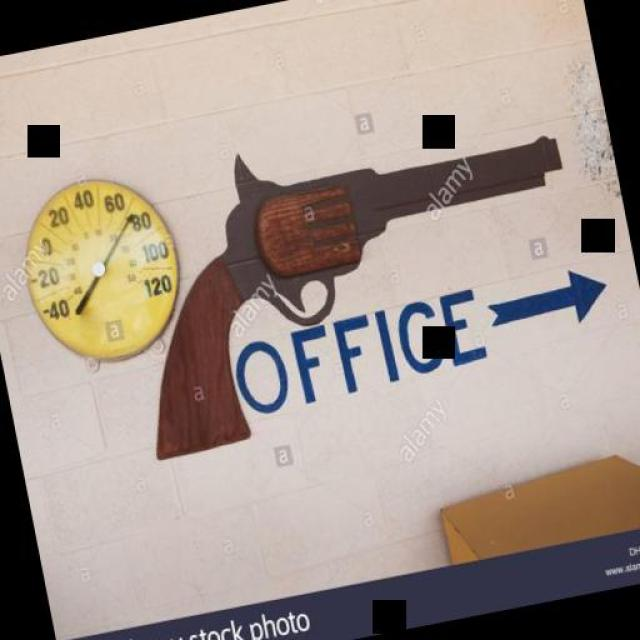gun: (97, 84, 604, 460)
